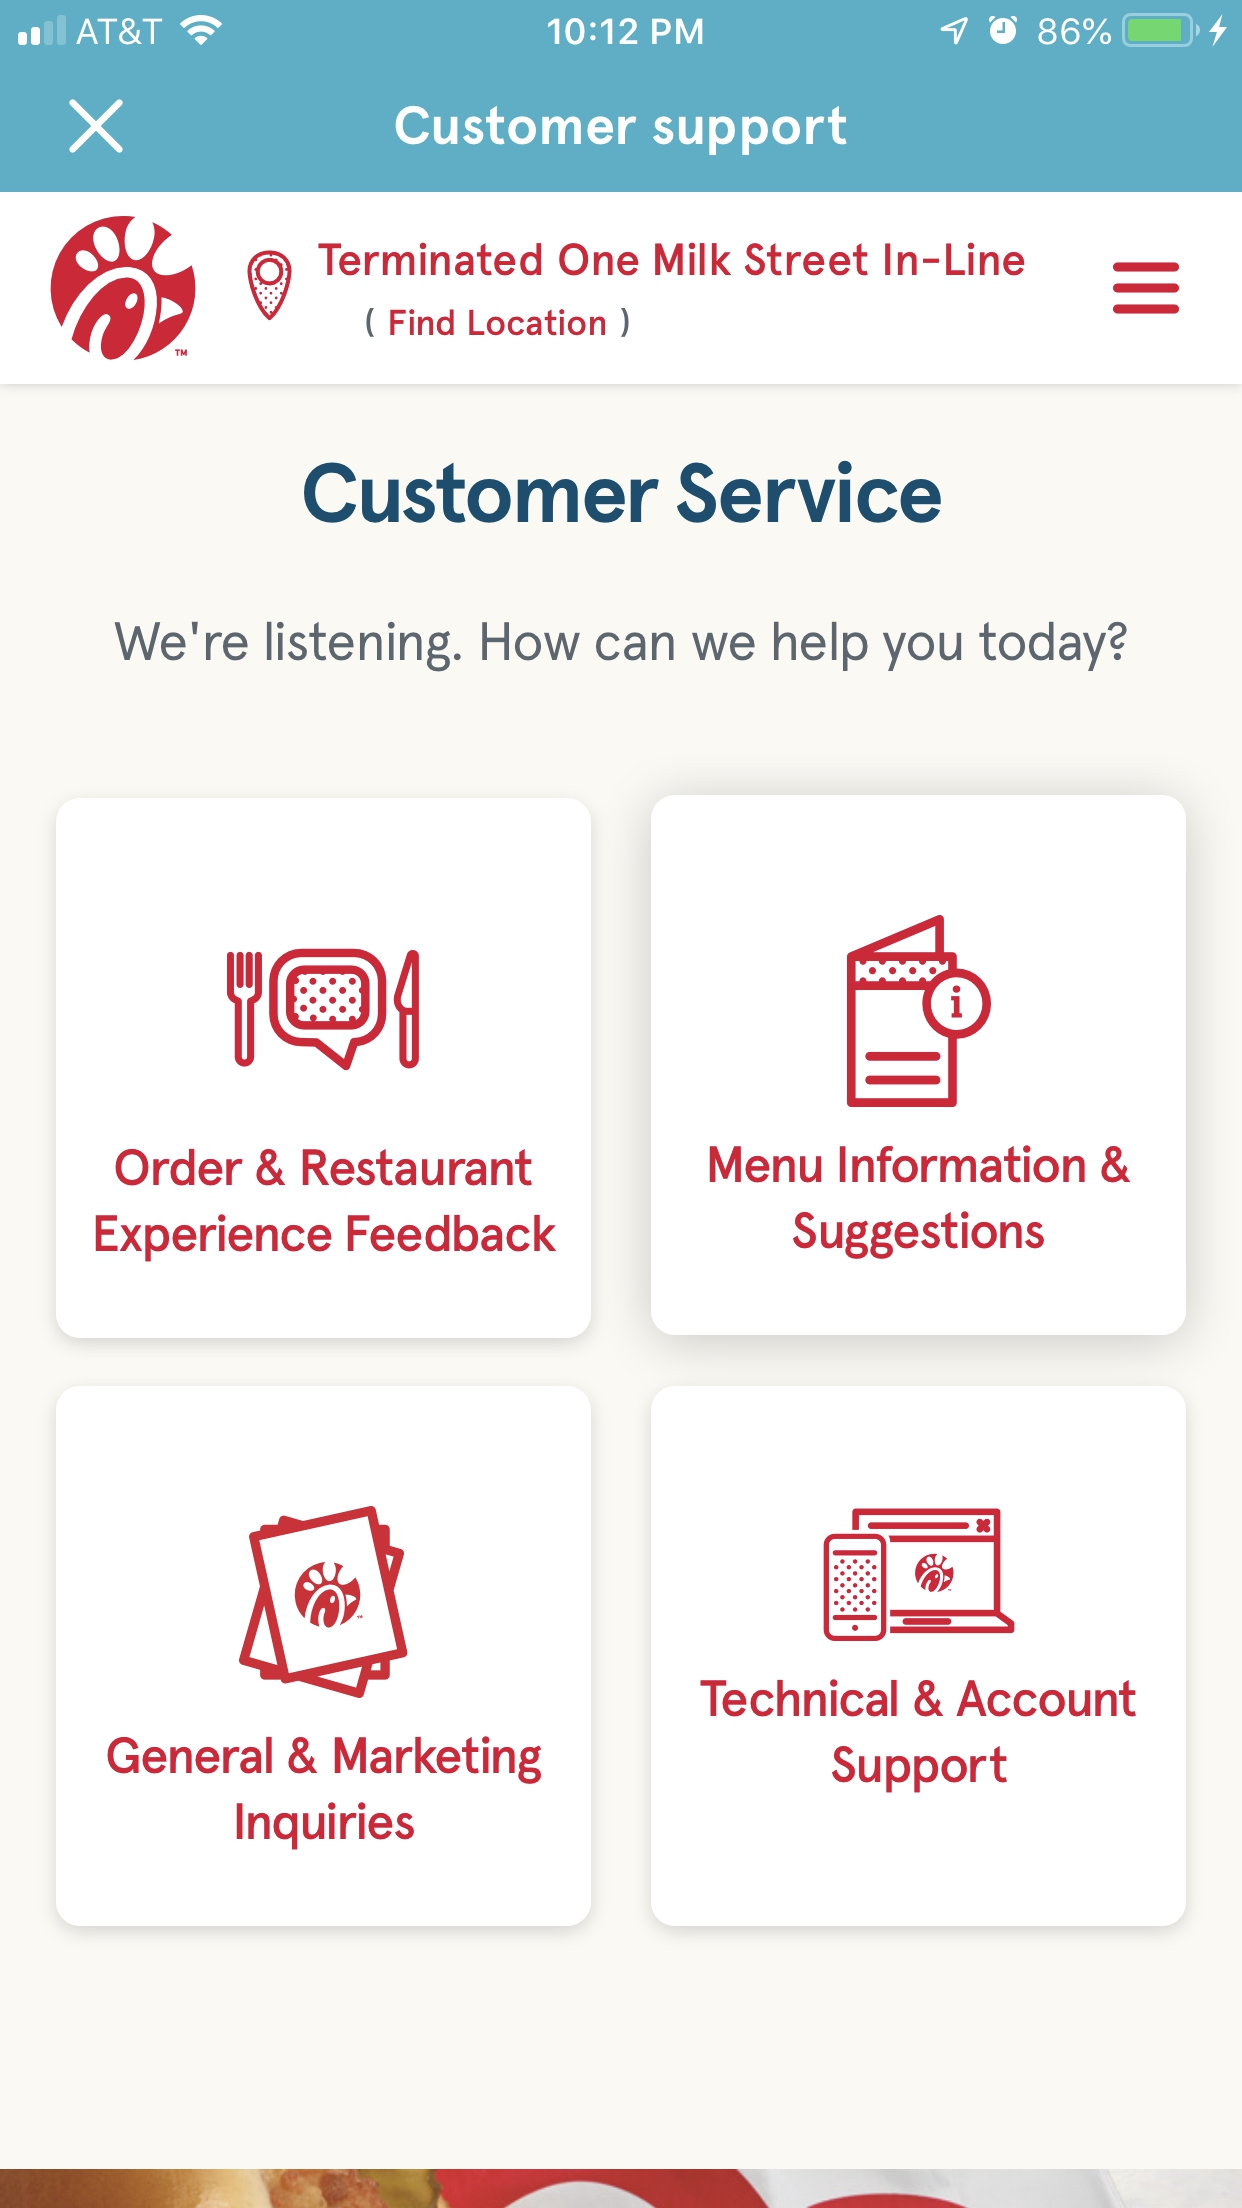Icon: (1112, 262, 1180, 315), (247, 250, 294, 321), (70, 99, 124, 155)
Image: (237, 1506, 409, 1700), (846, 914, 992, 1109), (823, 1507, 1016, 1642), (227, 948, 422, 1072), (52, 215, 199, 362)
Text: (114, 622, 1128, 675), (96, 1148, 558, 1263), (699, 1679, 1137, 1794), (108, 1736, 543, 1852), (708, 1143, 1131, 1262), (303, 459, 942, 525), (318, 243, 1025, 278), (394, 105, 848, 158), (365, 308, 629, 340)
UpperTaskBar: (2, 2, 1242, 49)
